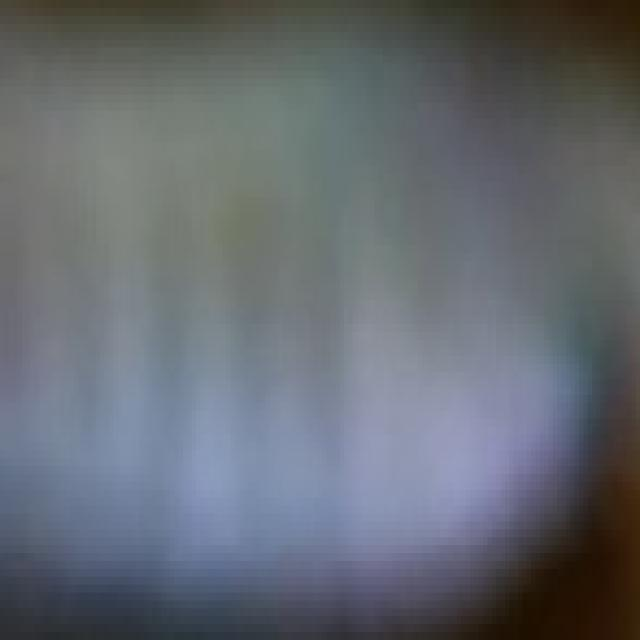fish: (4, 0, 640, 632)
